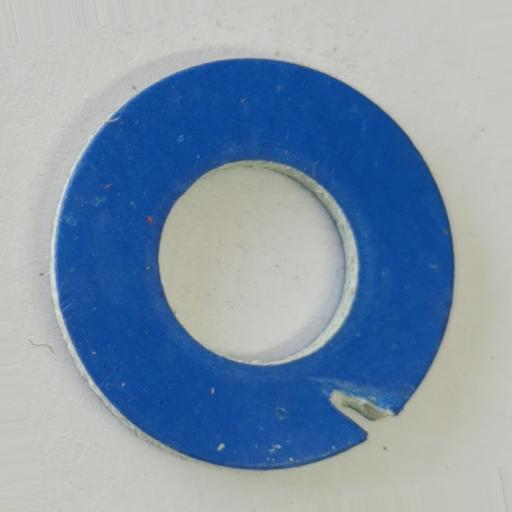defect: (304, 376, 398, 440)
